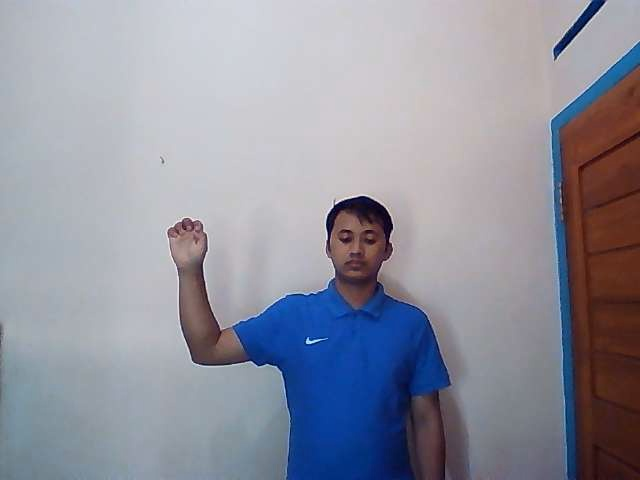E: (165, 217, 210, 267)
